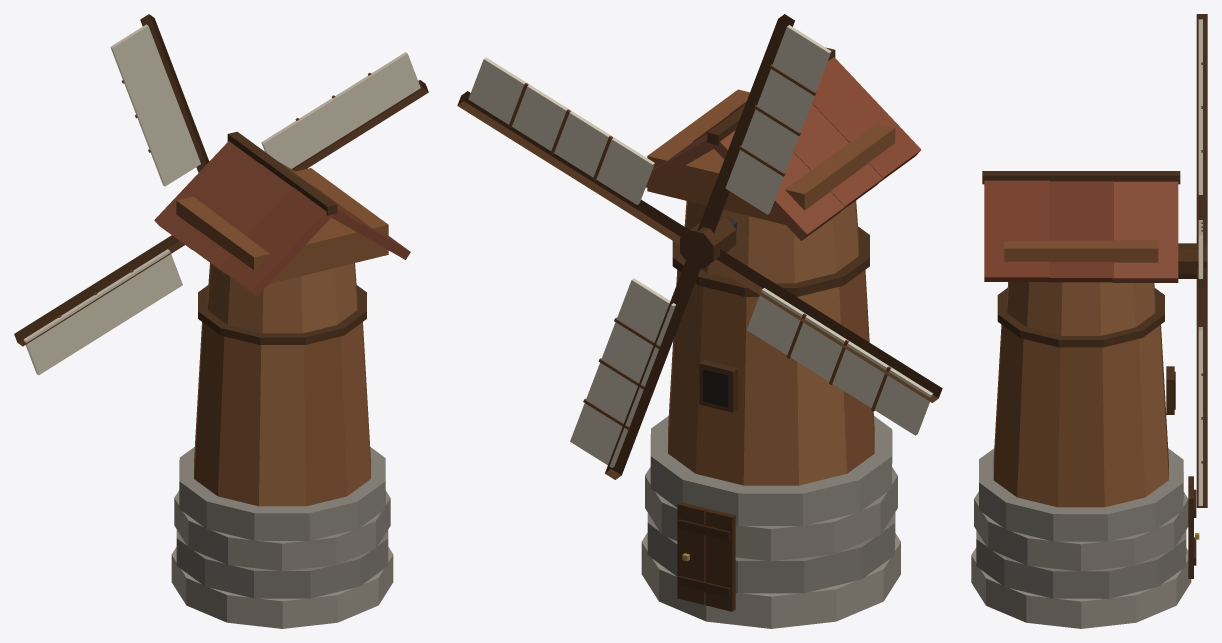
File: Windmill.glb
The picture shows the model from 3 angles, left to right: view 1: azimuth 30°, elevation 25°; view 2: azimuth 150°, elevation 25°; view 3: azimuth 270°, elevation 25°; orthographic projection. The views are drawn at different scales.
Parts seen in each view (by area): view 1: Body, Sails; view 2: Body, Sails; view 3: Body, Sails.
Boxes of the visible parts, bbox=[...] form: Body: bbox=[154, 131, 410, 628]; Sails: bbox=[14, 14, 428, 375]; Body: bbox=[641, 47, 921, 628]; Sails: bbox=[457, 14, 942, 479]; Body: bbox=[971, 171, 1199, 628]; Sails: bbox=[1178, 14, 1207, 507].
Size of what is drawn, in the model's own units: 17.05 by 21.42 by 8.6.
